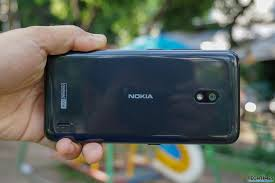nokia: (44, 47, 240, 146)
